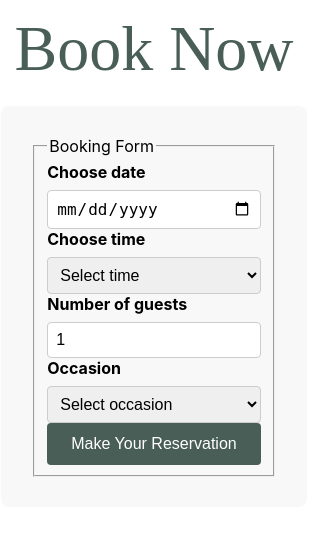
Test: BookingForm › shows validation errors when submitting empty form
Click the button with aria-label "On Click" at (154, 444), box top-left (47, 423), bottom-right (261, 465)
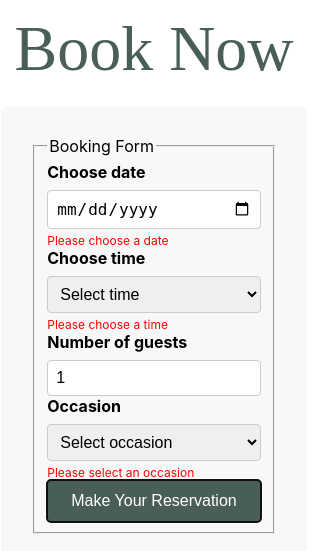
Now the text "Please choose a date" is shown, box top-left (47, 233), bottom-right (168, 248)
Now the text "Please choose a time" is shown, box top-left (47, 317), bottom-right (168, 332)
Now the text "Please select an occasion" is shown, box top-left (47, 465), bottom-right (194, 480)
